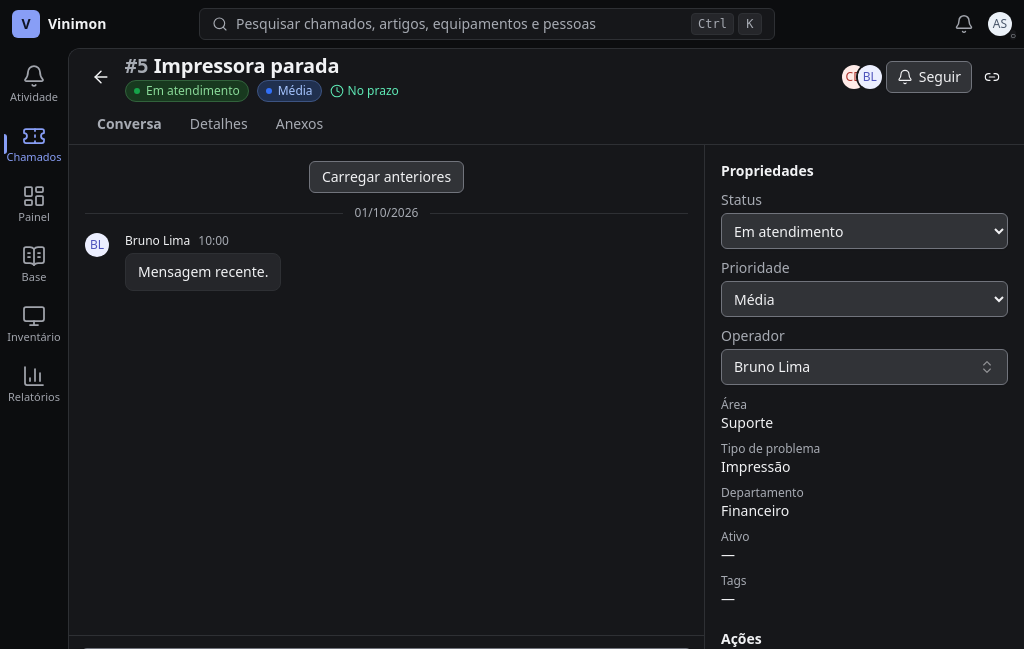
Test case: /chamados/$chamadoId (conversa) › "Carregar anteriores" busca com antesDe e mostra as mais antigas antes das atuais
Click the button "Carregar anteriores": (386, 177) [309,161,464,193]
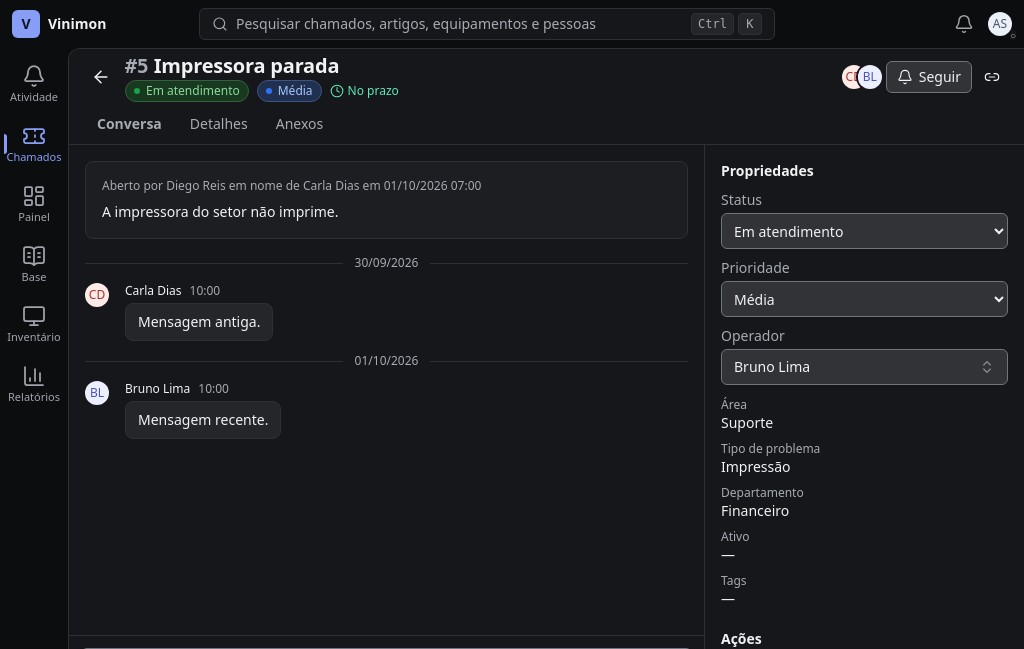
Now the text "Mensagem antiga." is shown, box [138,312,260,332]
Now the element named "Descrição inicial do chamado" is shown, box [85,161,688,239]
Now the button "Carregar anteriores" is gone
